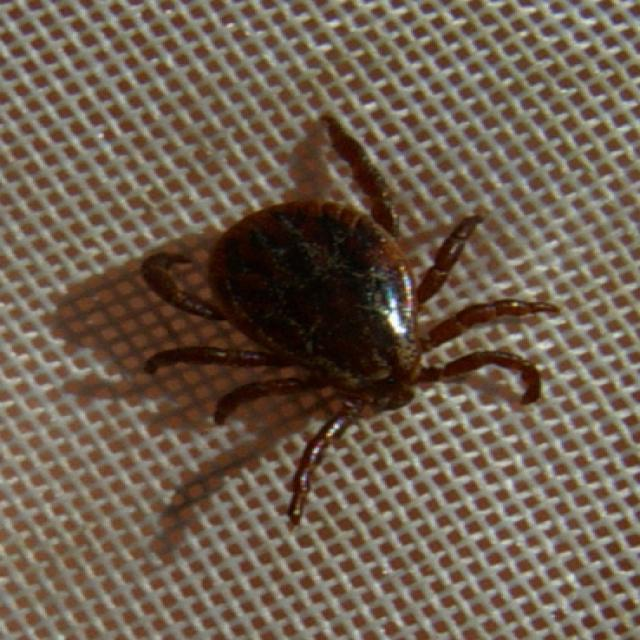Dermacentor Reticulatus-M: (139, 115, 560, 527)
